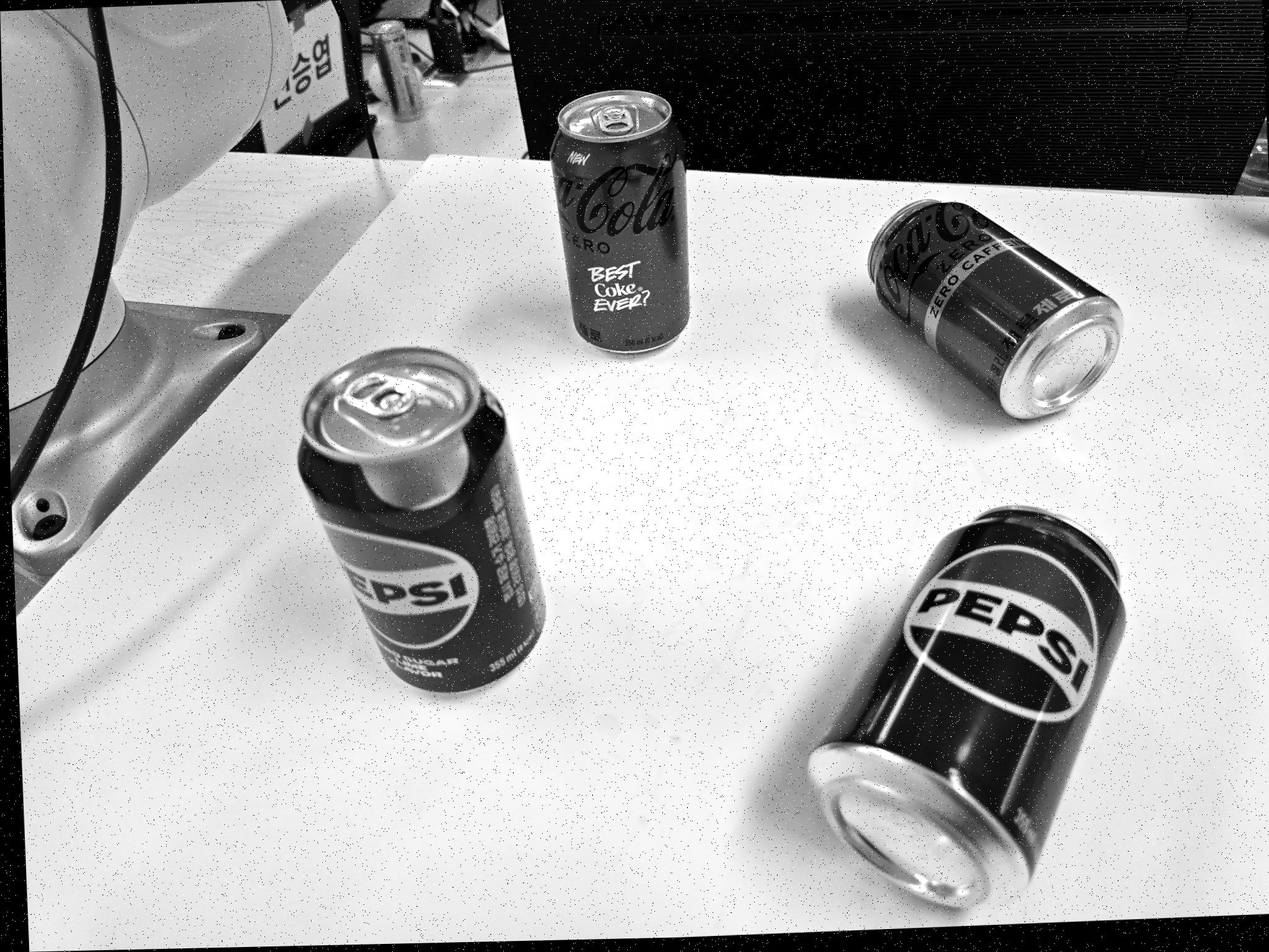can_coke_decaf: (868, 200, 1122, 418)
can_coke_zero: (550, 90, 689, 352)
can_pepsi: (808, 505, 1126, 907)
can_pepsi_zero: (298, 347, 545, 693)
